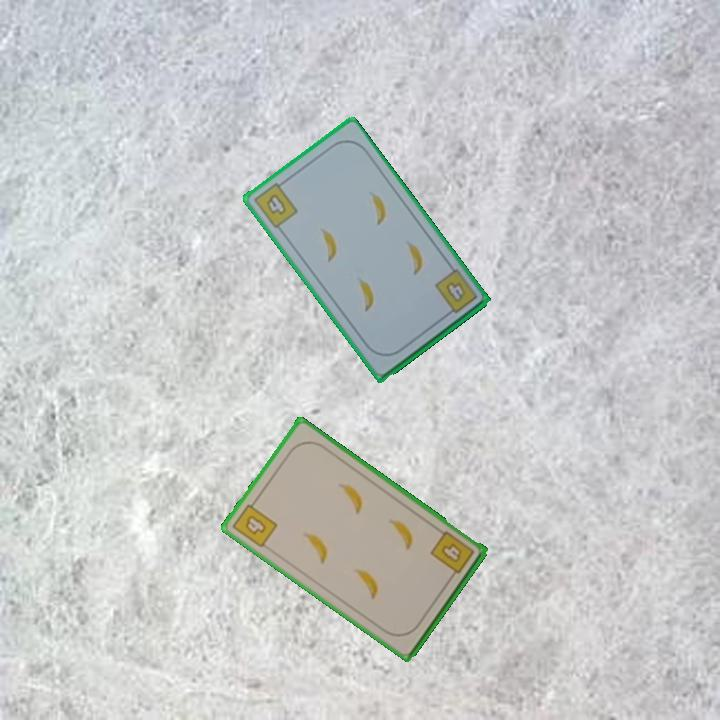4b: (229, 495, 280, 551), (250, 176, 301, 231), (427, 527, 477, 582), (431, 267, 480, 320)
